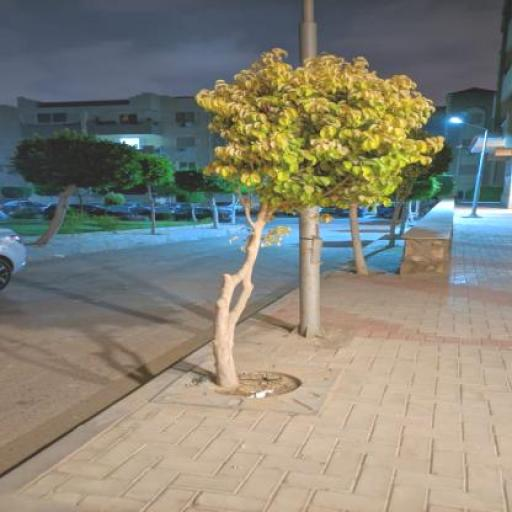street light: (450, 117, 490, 217)
